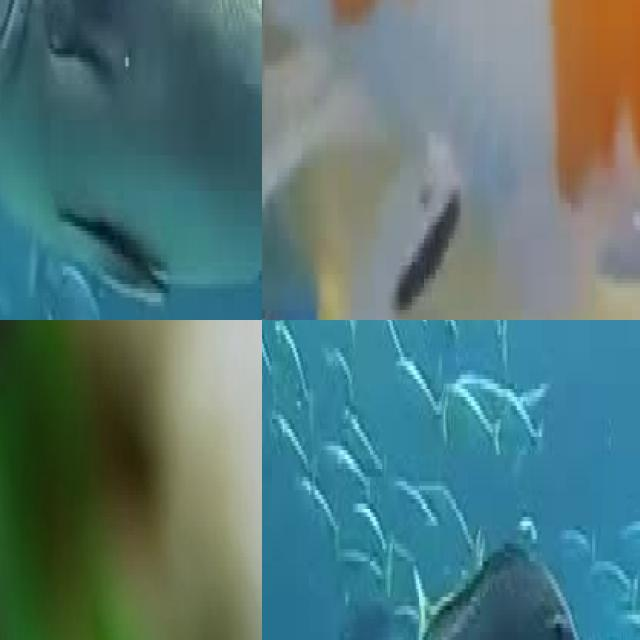fish: (262, 0, 640, 320), (0, 0, 262, 320)
